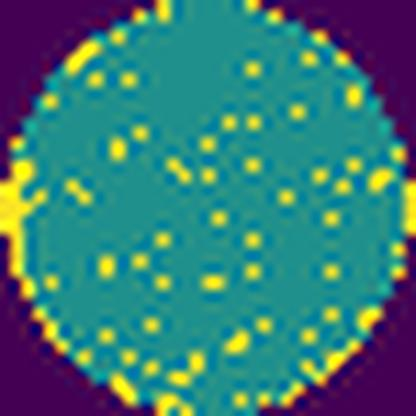Edge-Loc: (0, 152, 49, 300)
